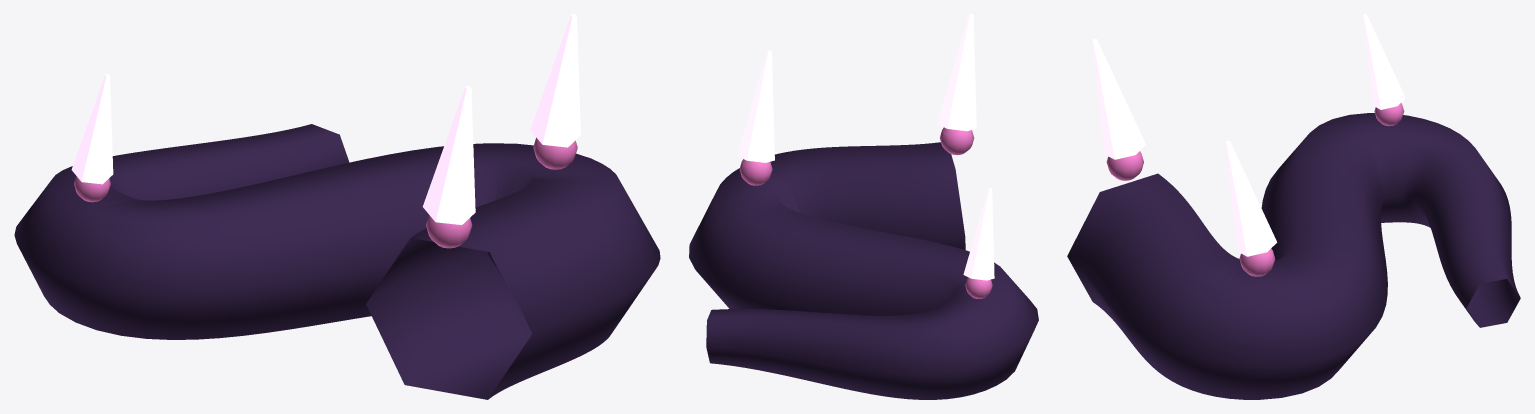
The model's file is SM_Keeper_Apep_Body_F00.fbx.
The picture shows the model from 3 angles, left to right: view 1: azimuth 30°, elevation 25°; view 2: azimuth 150°, elevation 25°; view 3: azimuth 270°, elevation 25°; orthographic projection. The views are drawn at different scales.
Parts seen in each view (by area): view 1: SM_Keeper_Apep_Body_F00; view 2: SM_Keeper_Apep_Body_F00; view 3: SM_Keeper_Apep_Body_F00.
Part boxes in pixels (x1=…): SM_Keeper_Apep_Body_F00: x1=14, y1=14, x2=660, y2=399; SM_Keeper_Apep_Body_F00: x1=689, y1=14, x2=1038, y2=399; SM_Keeper_Apep_Body_F00: x1=1067, y1=14, x2=1520, y2=399.
Bounding box in the file's own units: 6.9 × 4.37 × 6.53.
